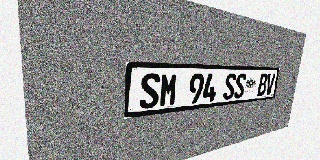4: (202, 73, 218, 102)
9: (188, 73, 205, 104)
B: (257, 73, 268, 96)
M: (159, 73, 178, 107)
S: (139, 73, 160, 109), (223, 73, 237, 100), (234, 73, 247, 99)
V: (265, 73, 275, 95)
